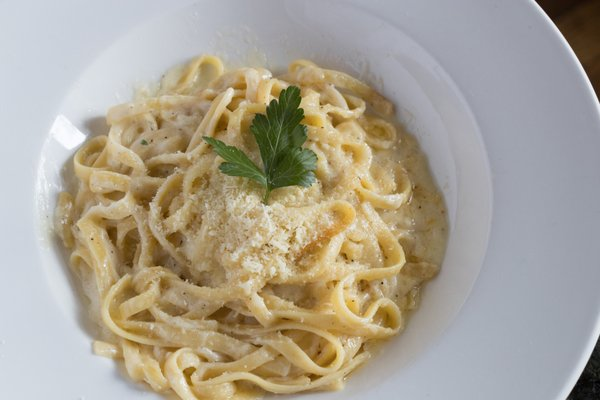sushi: (20, 2, 495, 392)
